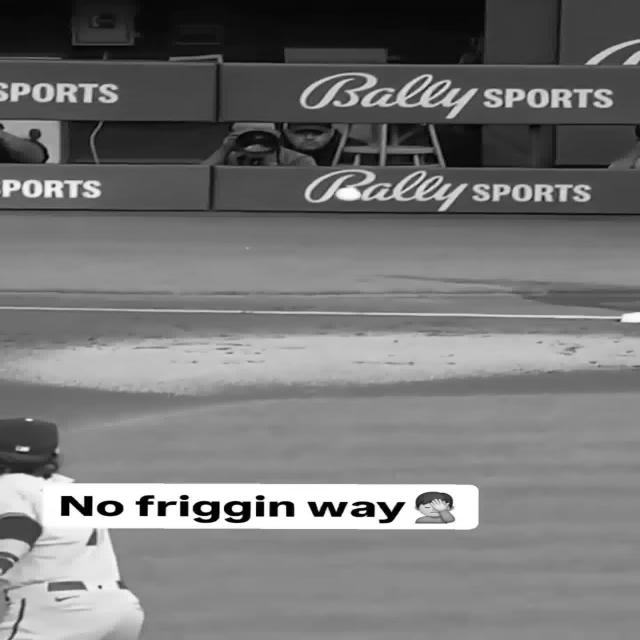base: (620, 311, 640, 324)
baseball: (336, 186, 362, 201)
